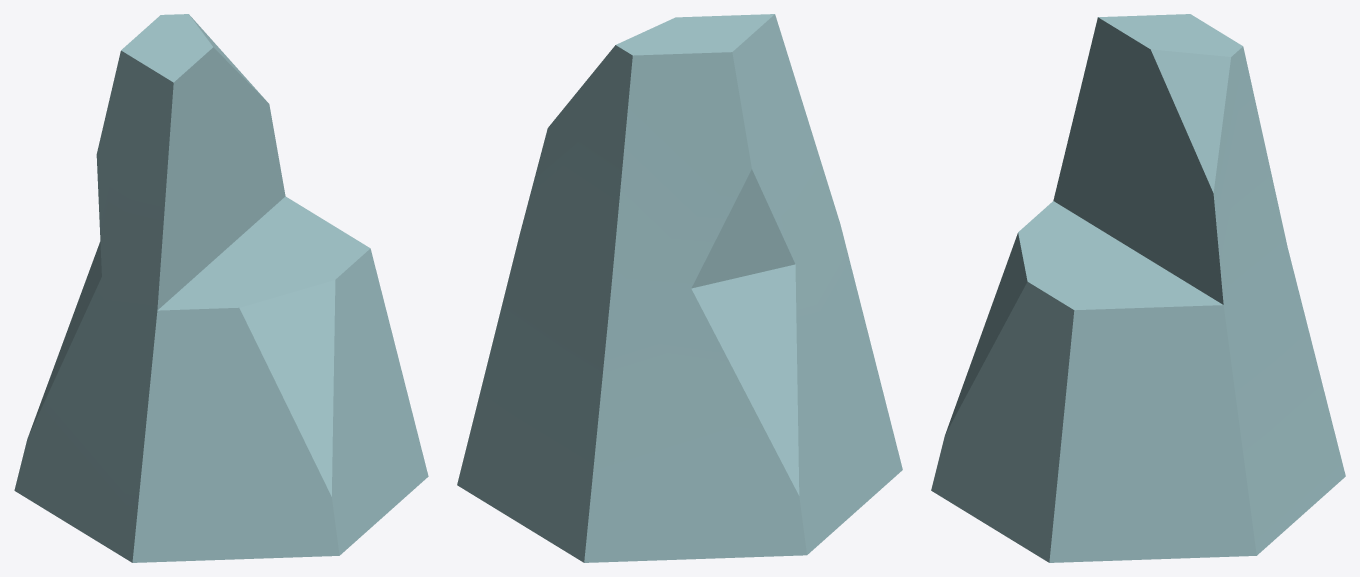
Rendered from stone_tall10.fbx.
3 views of the same model, side by side, from view 1: azimuth 30°, elevation 25°; view 2: azimuth 150°, elevation 25°; view 3: azimuth 270°, elevation 25° (orthographic). The views are drawn at different scales.
Visible parts, largest first — view 1: stone_tall10; view 2: stone_tall10; view 3: stone_tall10.
Part boxes in pixels (bbox=[...]): stone_tall10: bbox=[14, 14, 428, 562]; stone_tall10: bbox=[457, 14, 902, 562]; stone_tall10: bbox=[931, 14, 1345, 562].
Bounding box in the file's own units: 4.88 × 6.2 × 5.38.
